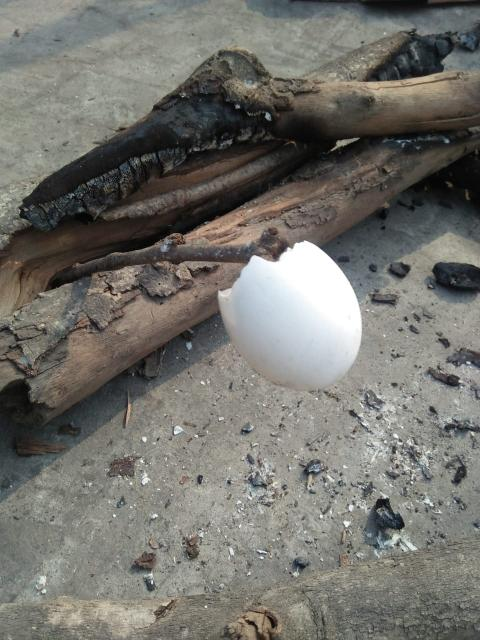Roto: (216, 239, 362, 392)
